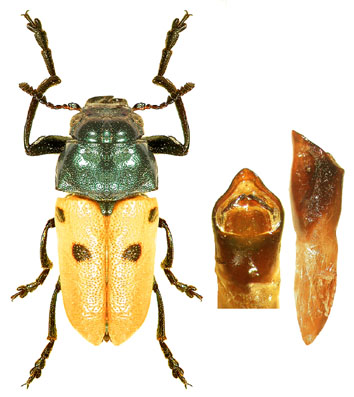Labidostomis_maculipennis: (8, 4, 202, 397)
